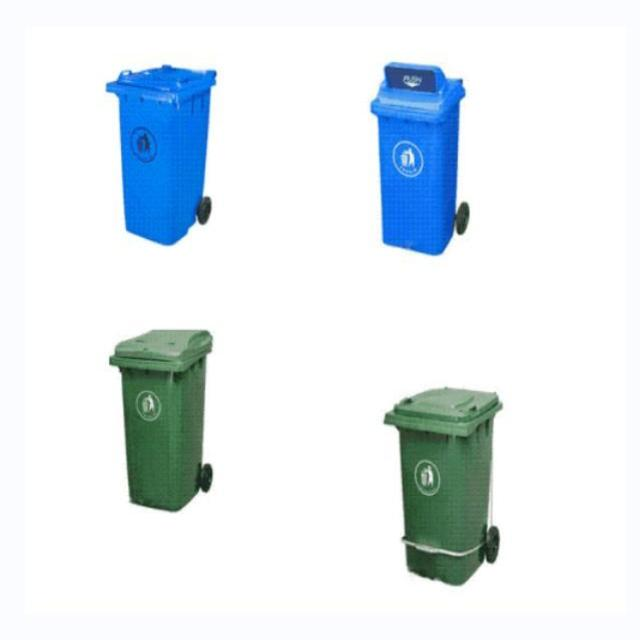garbage_bin: (382, 385, 502, 585), (105, 63, 218, 244), (107, 328, 212, 512), (368, 60, 464, 257)
